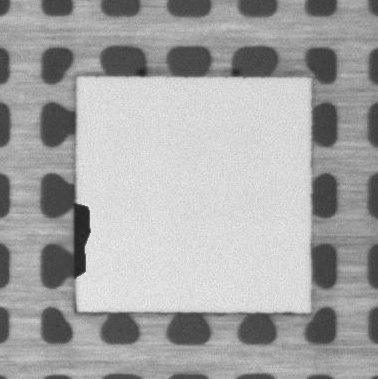DIE_BROKEN: (71, 197, 93, 283)
